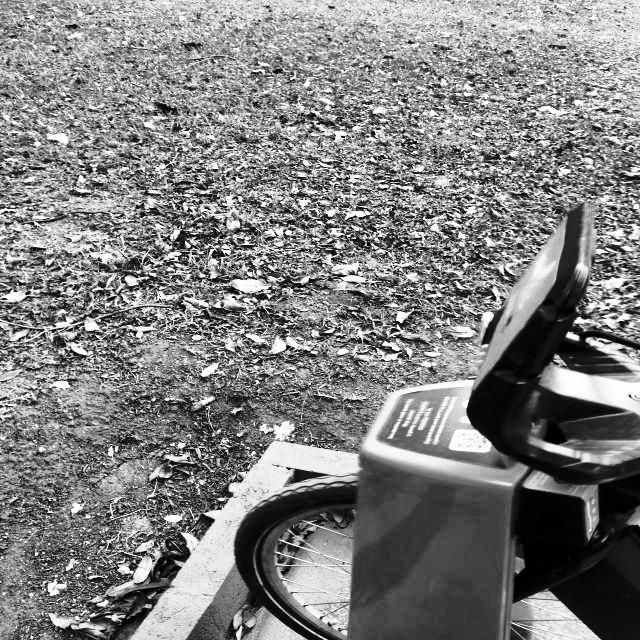qr_code: (454, 432, 488, 450)
